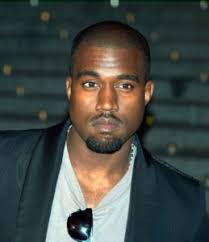b.y: (87, 111, 123, 153)
